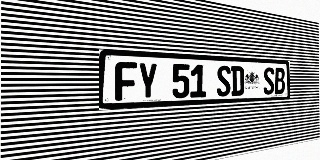1: (190, 64, 206, 98)
5: (172, 64, 190, 98)
B: (275, 67, 285, 94)
D: (231, 66, 244, 96)
F: (115, 61, 137, 101)
S: (217, 65, 231, 97), (263, 67, 274, 95)
Y: (138, 62, 158, 100)
